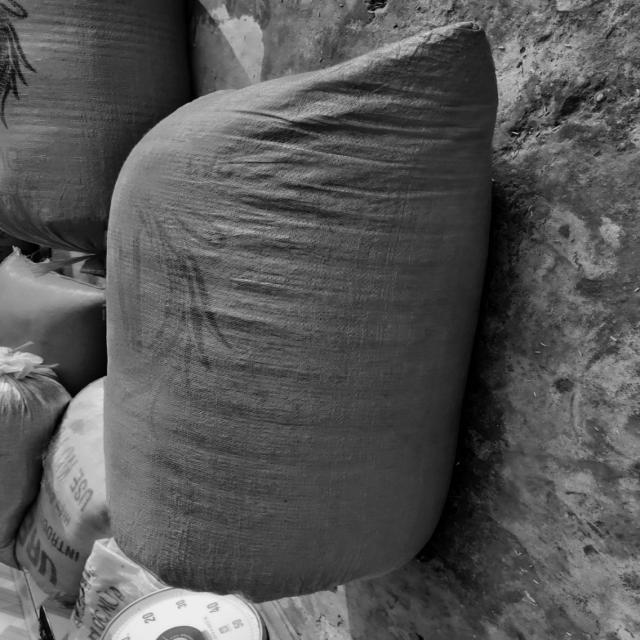gunny_bag: (104, 22, 498, 602)
